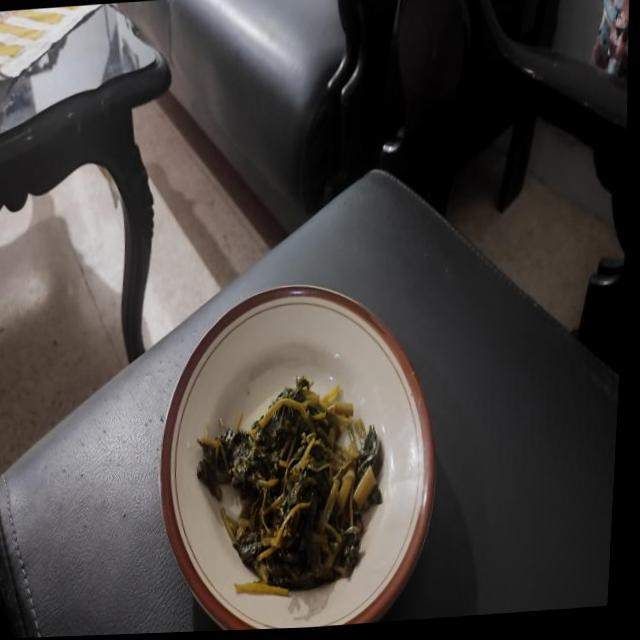tumis_kangkung: (196, 375, 382, 590)
